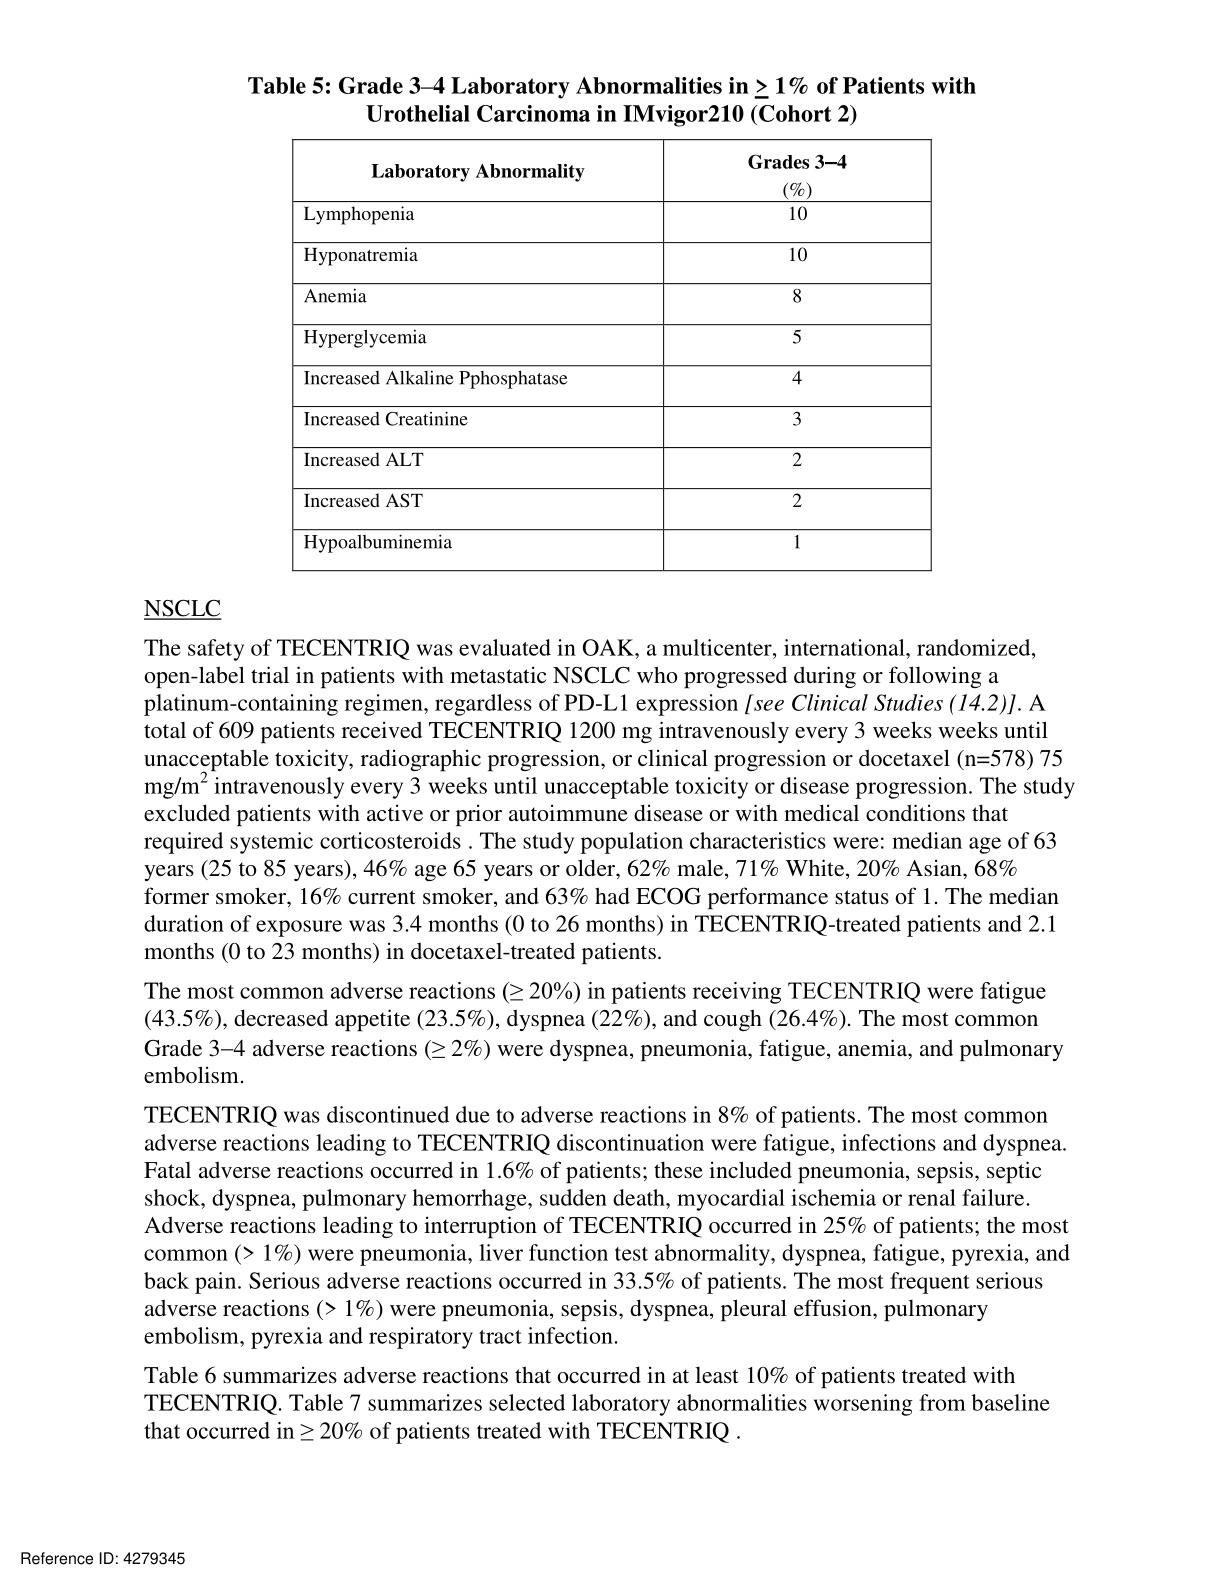full_lined: (292, 138, 933, 572)
